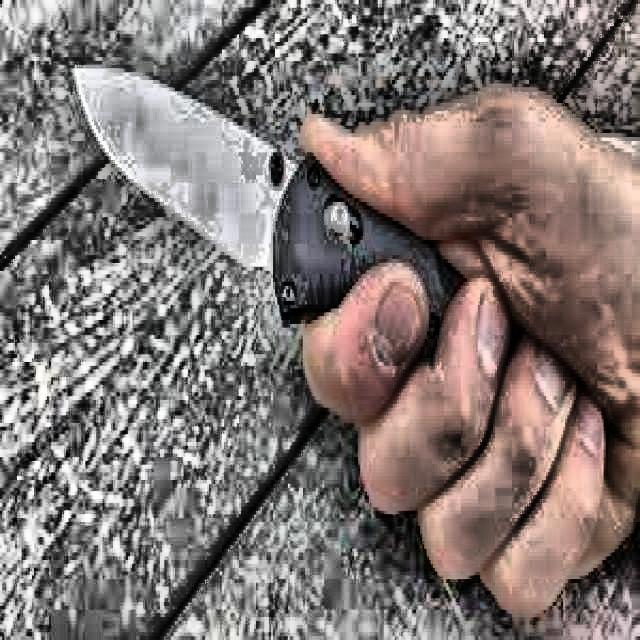knife: (70, 55, 544, 423)
